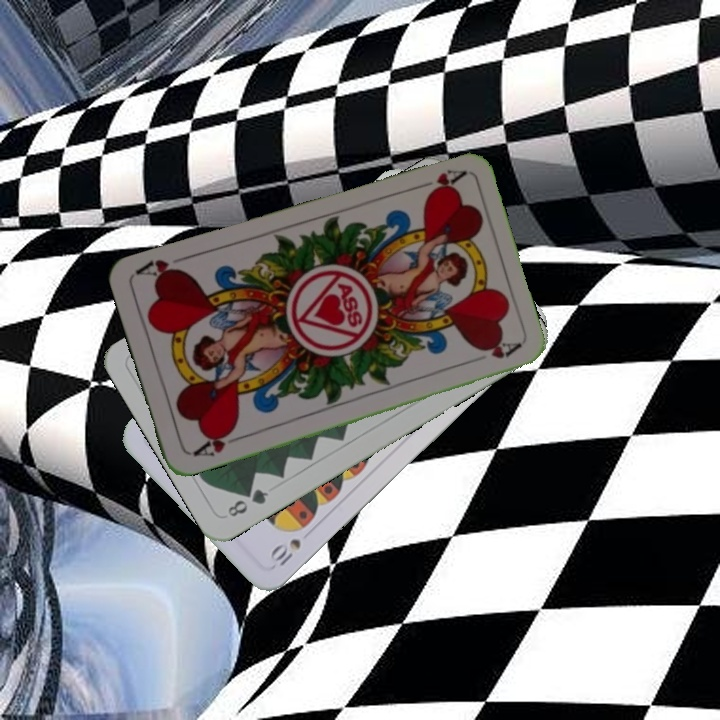G8: (223, 484, 271, 520)
HA: (409, 165, 468, 200), (189, 425, 245, 459)
S10: (266, 534, 304, 569)
